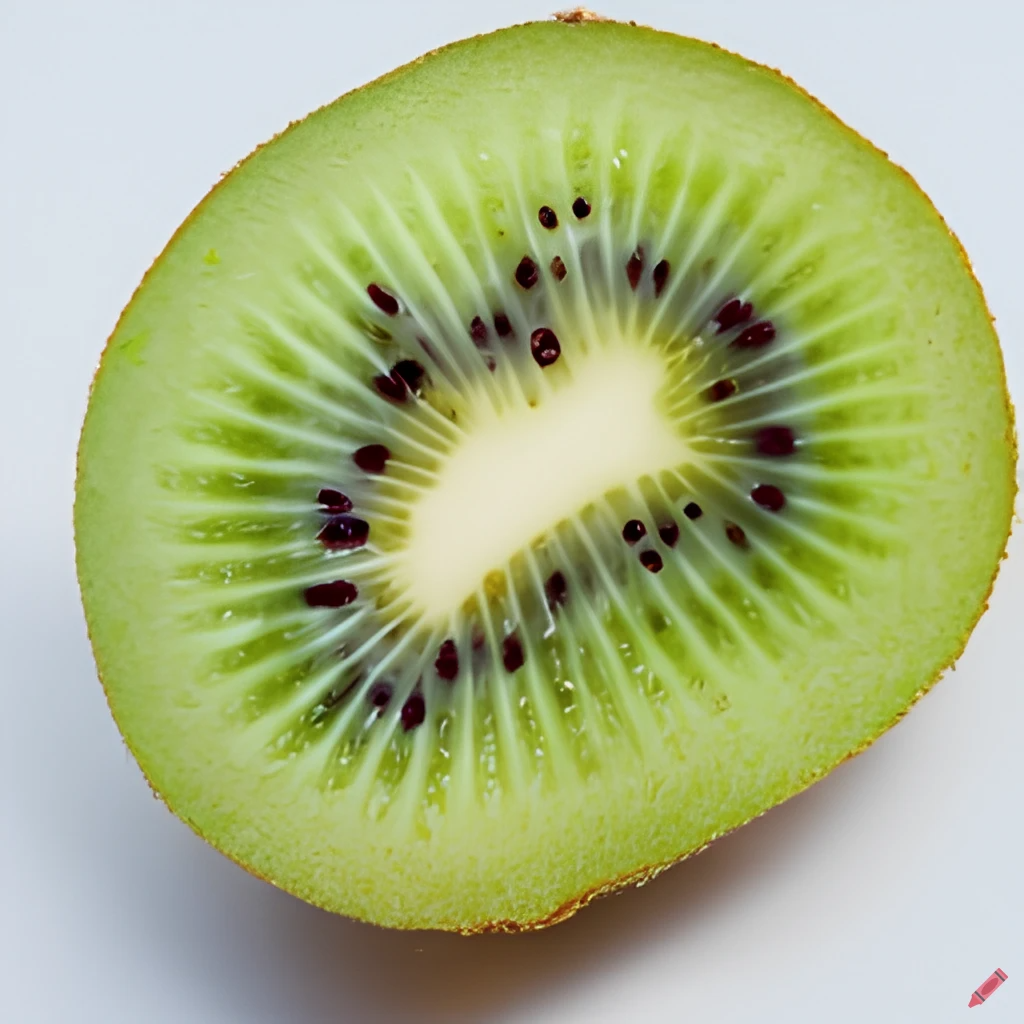Kiwi: (49, 3, 1024, 950)
